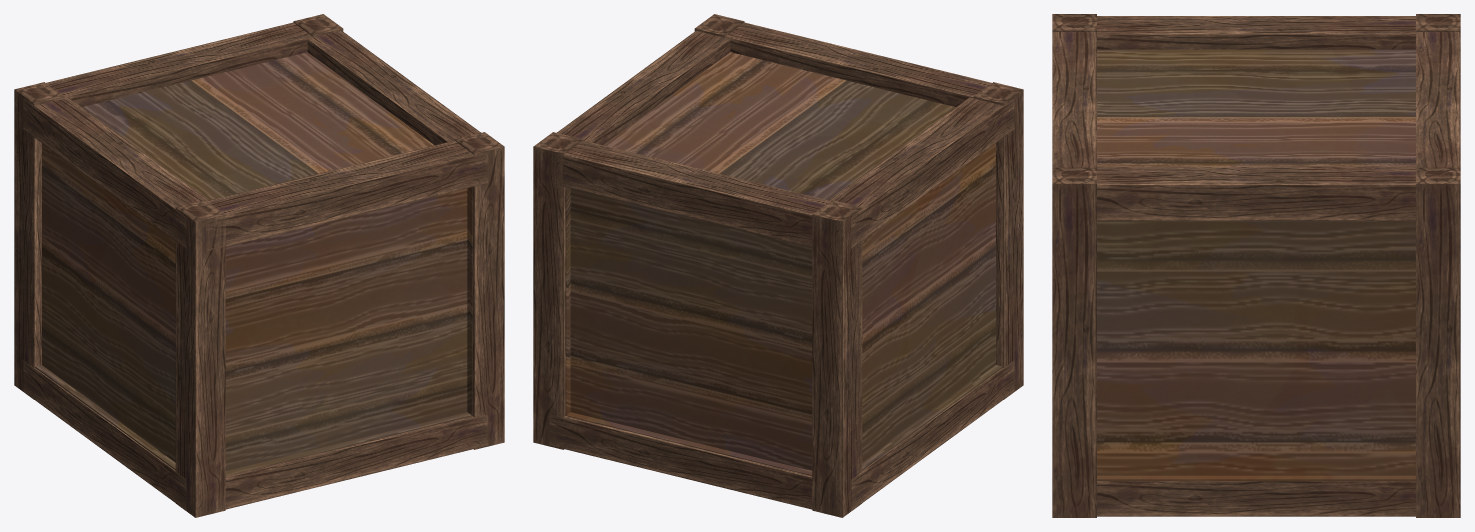
The model's file is wood Box.fbx.
3 renders of one model, left to right at view 1: azimuth 30°, elevation 25°; view 2: azimuth 150°, elevation 25°; view 3: azimuth 270°, elevation 25°, orthographic. The views are drawn at different scales.
Parts seen in each view (by area): view 1: wood box; view 2: wood box; view 3: wood box.
Part boxes in pixels (x1,y1,x2,y2): wood box: [14, 14, 504, 517]; wood box: [533, 14, 1023, 517]; wood box: [1052, 14, 1460, 517].
Bounding box in the file's own units: 17.33 × 15.85 × 17.58.
